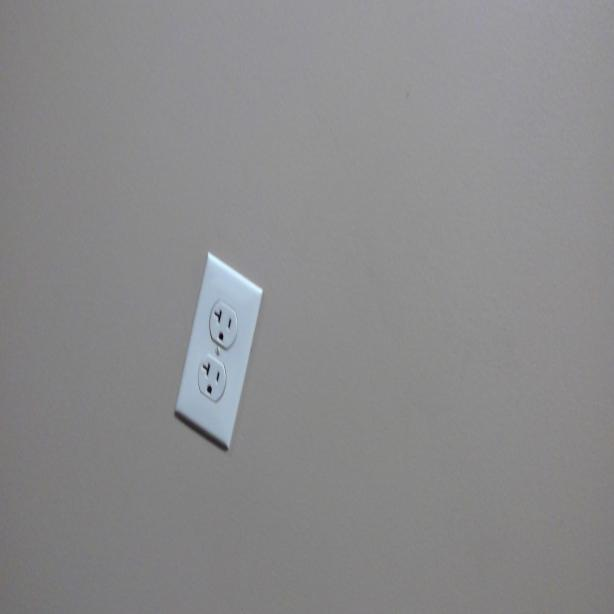typeb: (208, 291, 240, 348), (196, 354, 226, 403)
